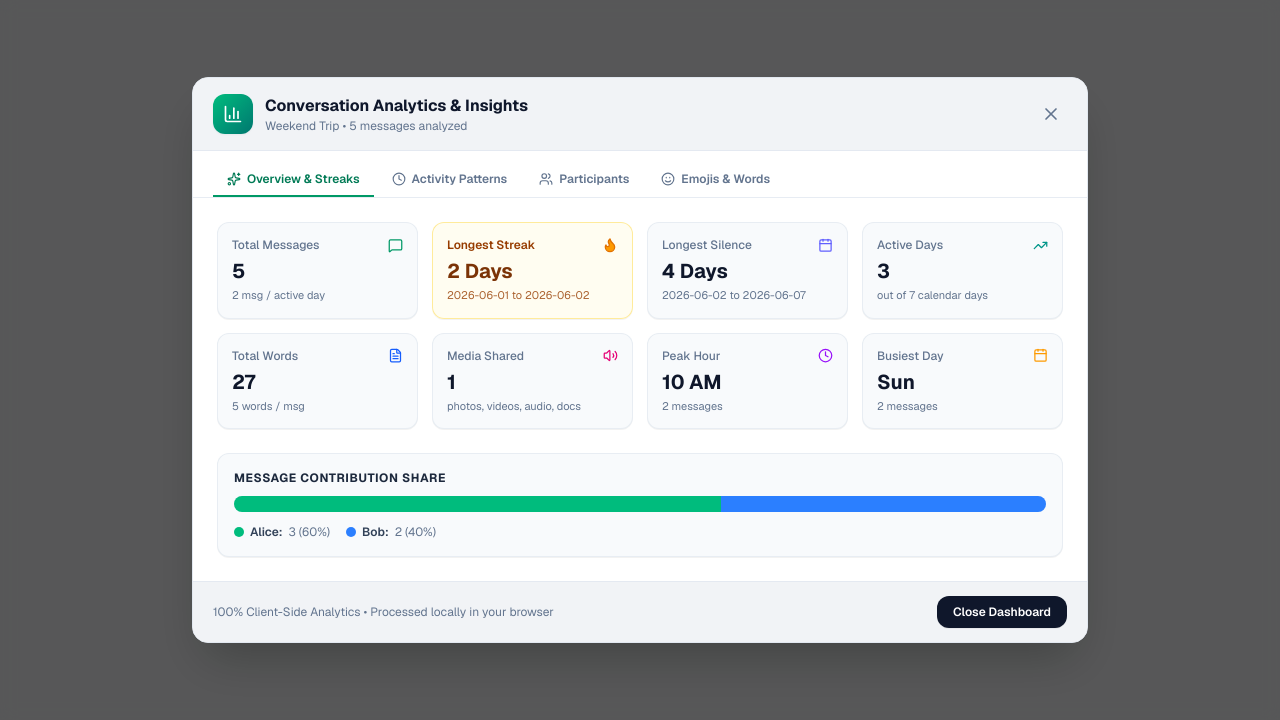
Test case: Conversation Analytics Suite › Test 4 — Navigates between Activity, Participants, and Vocabulary tabs
// Click Activity Patterns Tab
Click the button "Activity Patterns" at (449, 180), box [378,163,521,197]
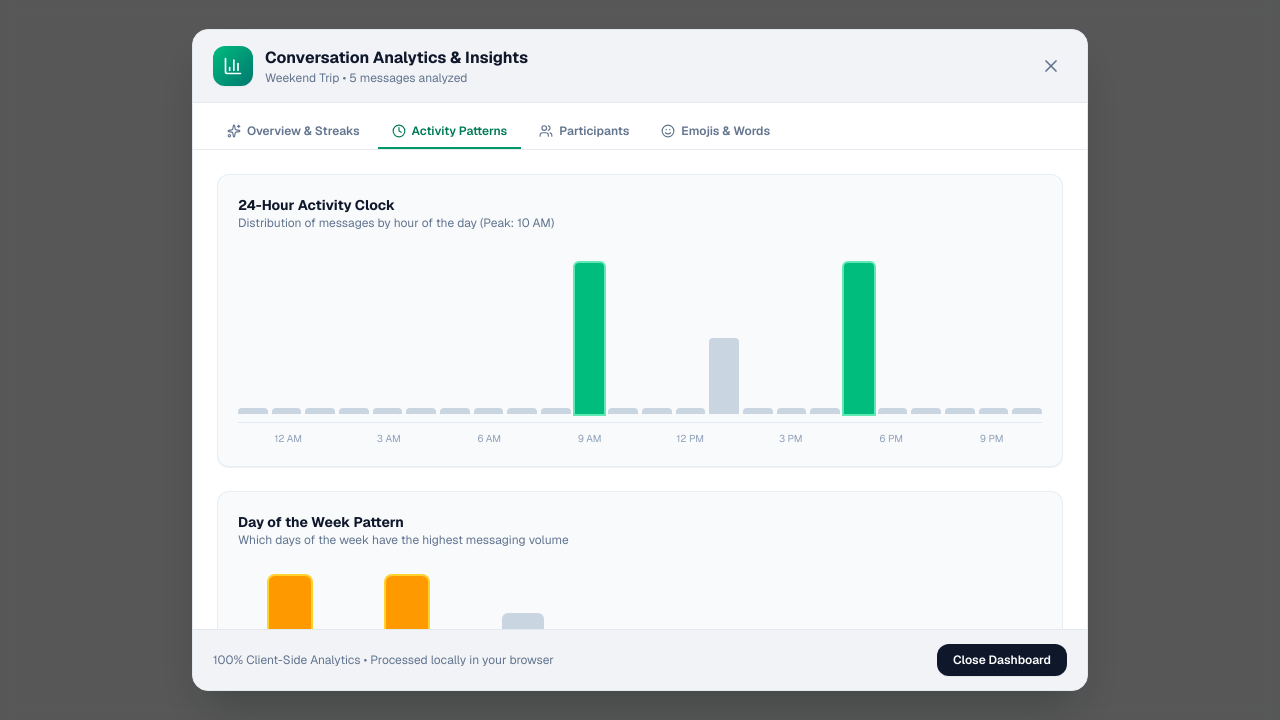
Check: the heading "24-Hour Activity Clock" is shown, box [238,196,395,214]
Check: the heading "Day of the Week Pattern" is shown, box [238,513,404,531]
// Click Participants Tab
Click the button "Participants" at (584, 132), box [525,115,643,149]
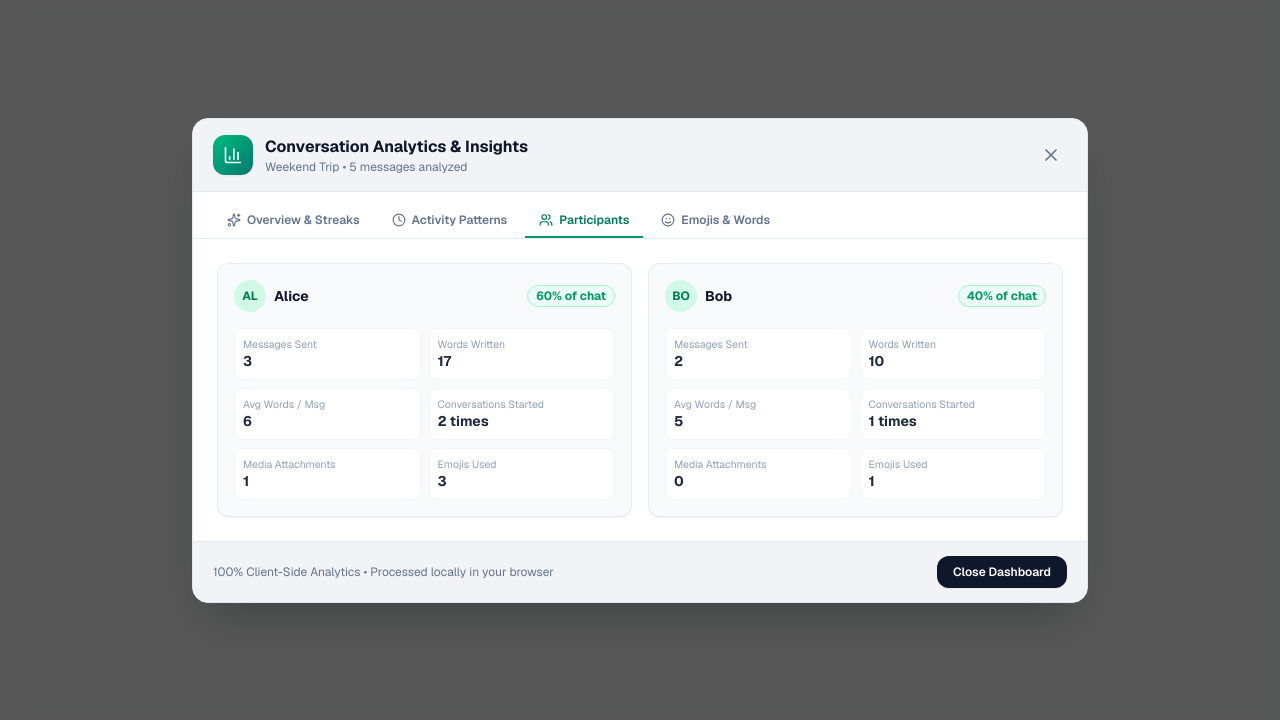
Check: the text "60% of chat" is shown, box [527,284,615,306]
Check: the text "40% of chat" is shown, box [958,284,1046,306]
// Click Emojis & Words Tab
Click the button "Emojis & Words" at (716, 220), box [647,204,784,238]
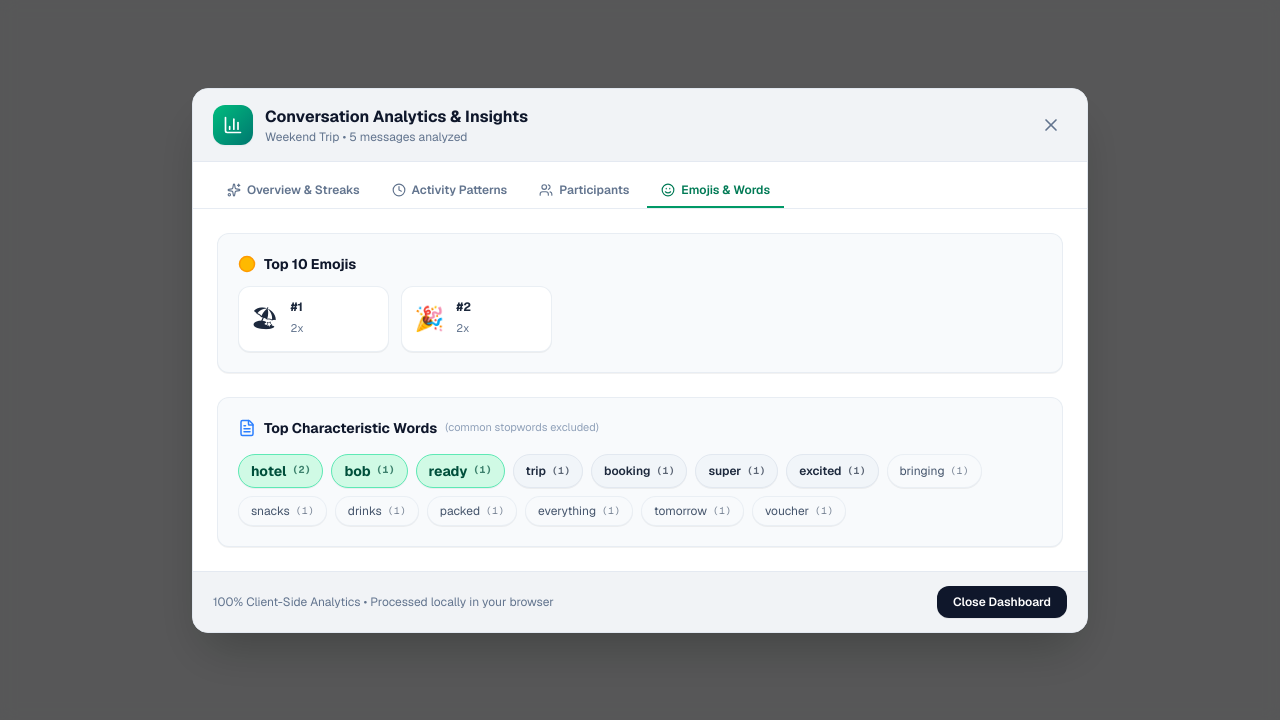
Check: the heading "Top 10 Emojis" is shown, box [264,254,356,274]
Check: the heading "Top Characteristic Words" is shown, box [264,418,437,438]
